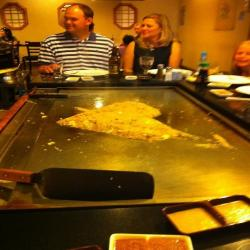rice: (57, 97, 190, 153)
